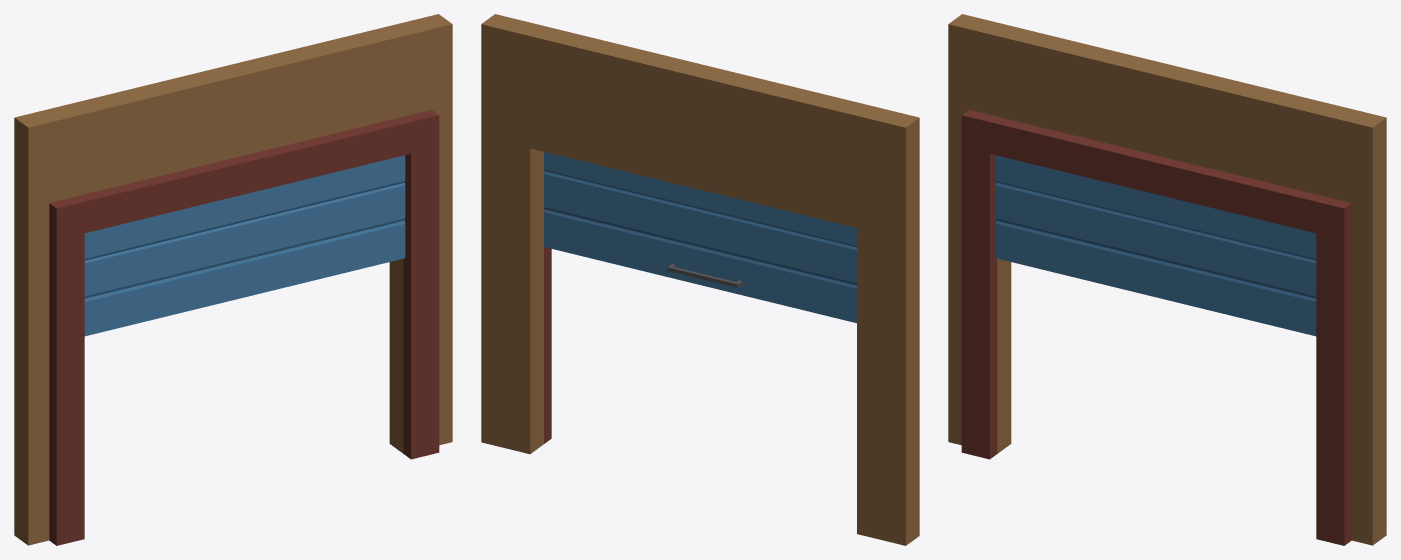
The model's file is Me_Wall_Door_Open.fbx.
3 renders of one model, left to right at view 1: azimuth 30°, elevation 25°; view 2: azimuth 150°, elevation 25°; view 3: azimuth 330°, elevation 25°, orthographic.
Parts seen in each view (by area): view 1: Me_Wall_Door_Open; view 2: Me_Wall_Door_Open; view 3: Me_Wall_Door_Open.
Boxes of the visible parts, left/top/right/bottom form: Me_Wall_Door_Open: left=14, top=14, right=452, bottom=545; Me_Wall_Door_Open: left=481, top=14, right=919, bottom=545; Me_Wall_Door_Open: left=948, top=14, right=1386, bottom=545.
Size of the model in its own units: 3000 by 262 by 2823.
